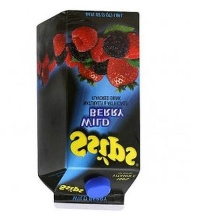carton: (33, 5, 146, 213)
